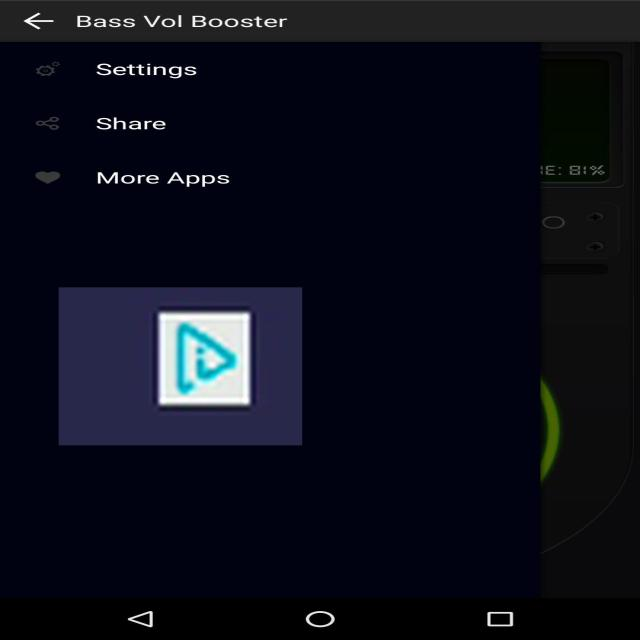sneaking: (59, 288, 302, 446)
